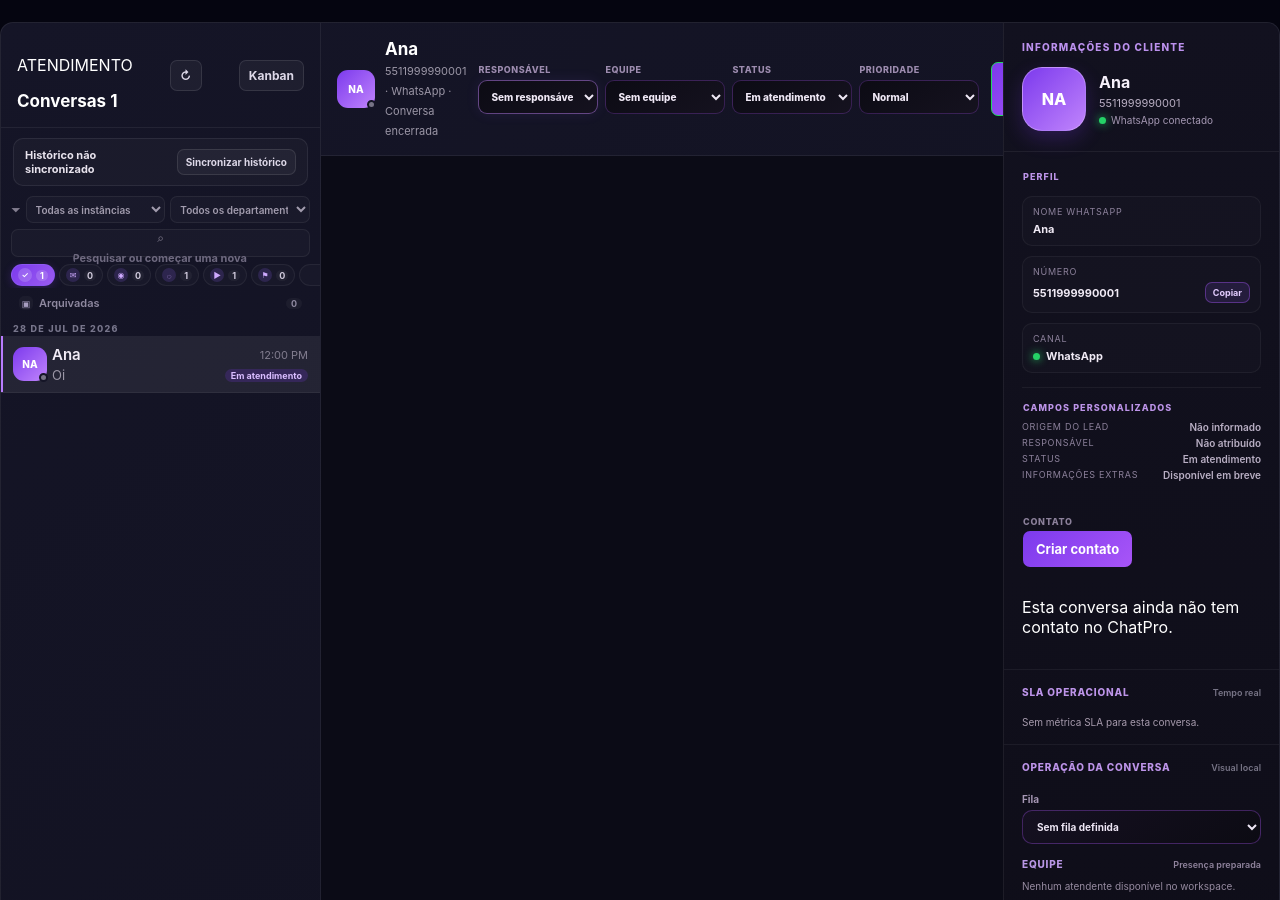
Scenario: envio de localização › dá mensagem própria para o erro de código 3
This screenshot has width=1280, height=900.
Click the button with class "conversation-item" at x=30, y=364, box [1,336,320,393]
(page scrolled)
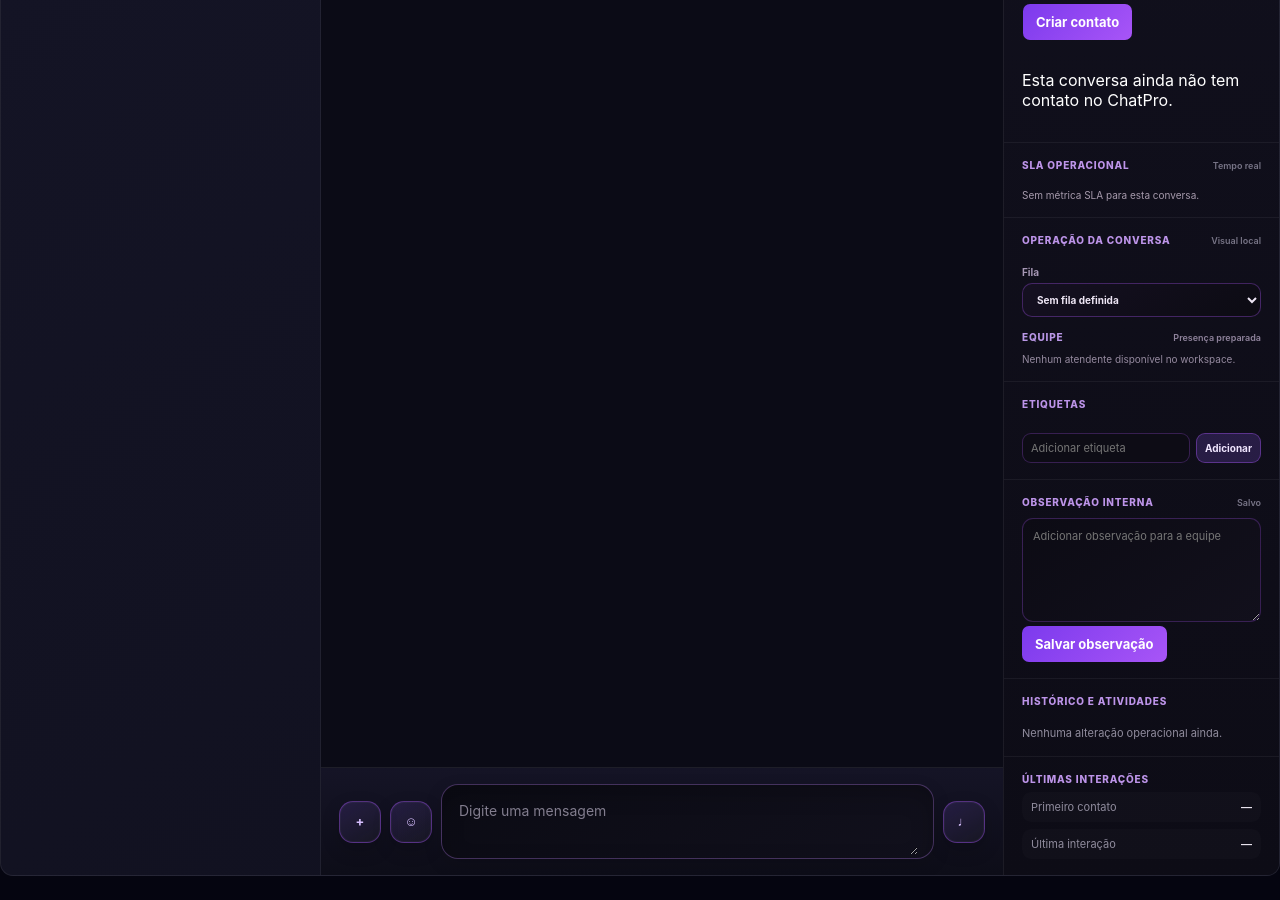
Click the button named "Adicionar anexo" at x=360, y=822, box [339,801,381,843]
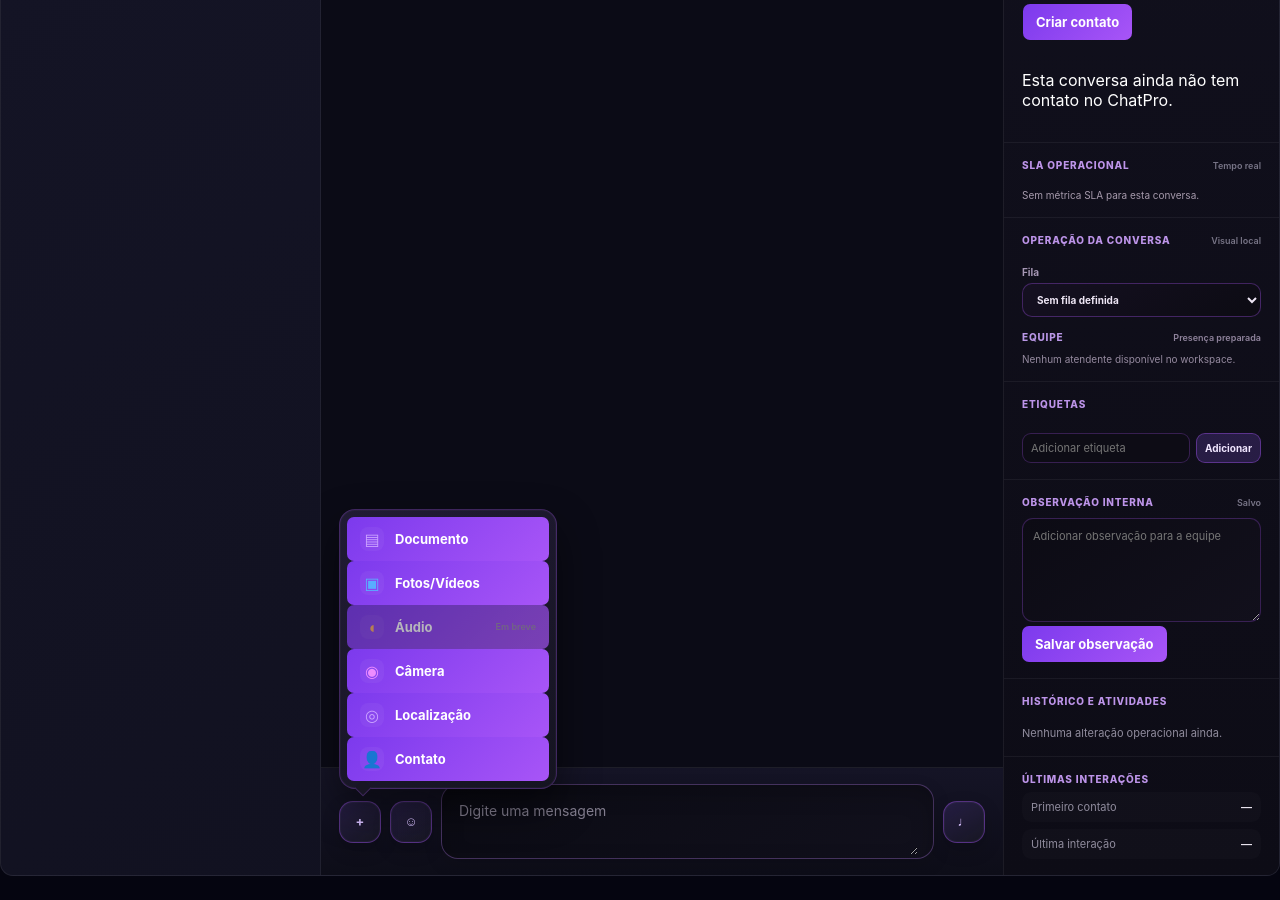
Click the text "Localização" at x=433, y=715, box [395,707,471,723]
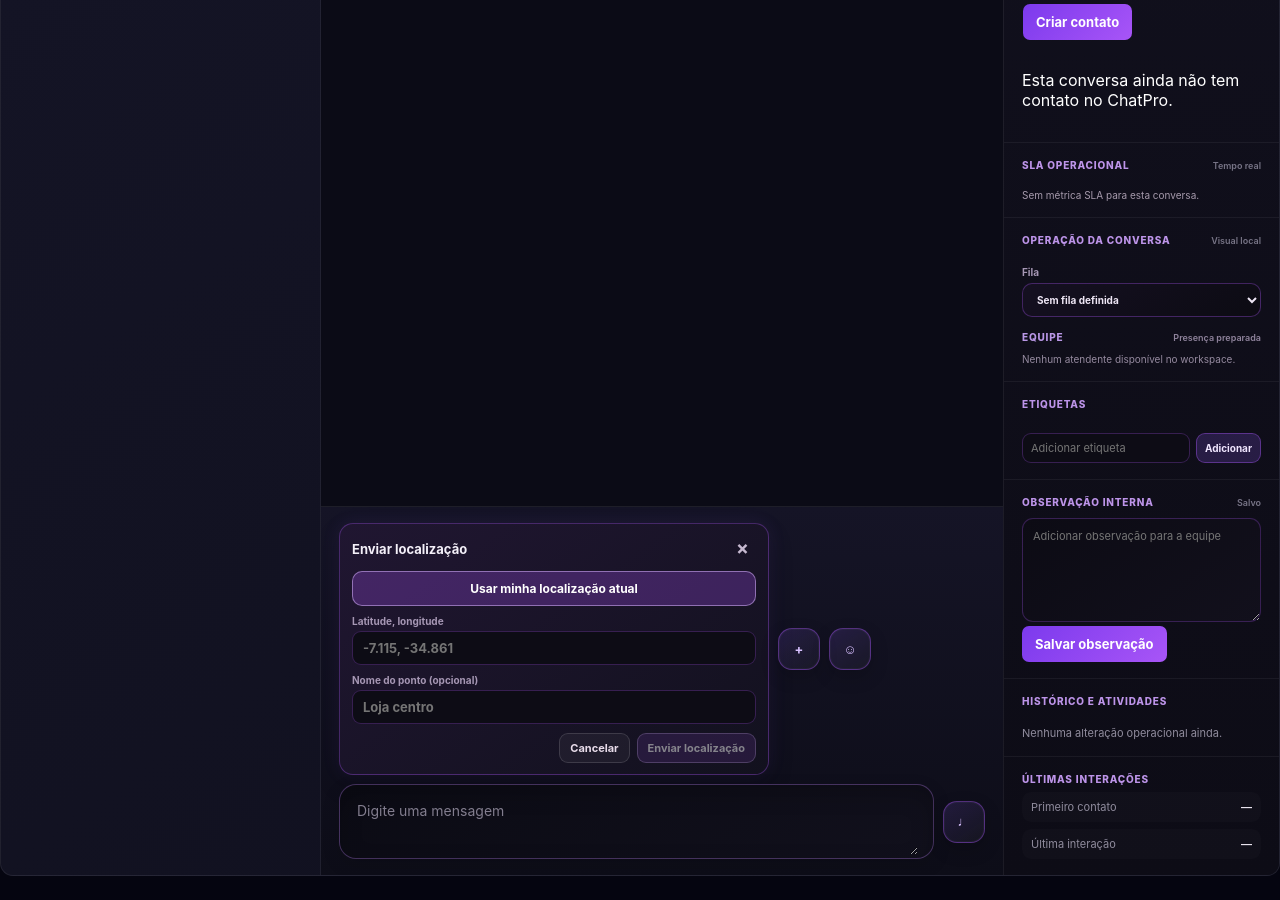
Click the button "Usar minha localização atual" at x=554, y=589, box [352,571,756,606]
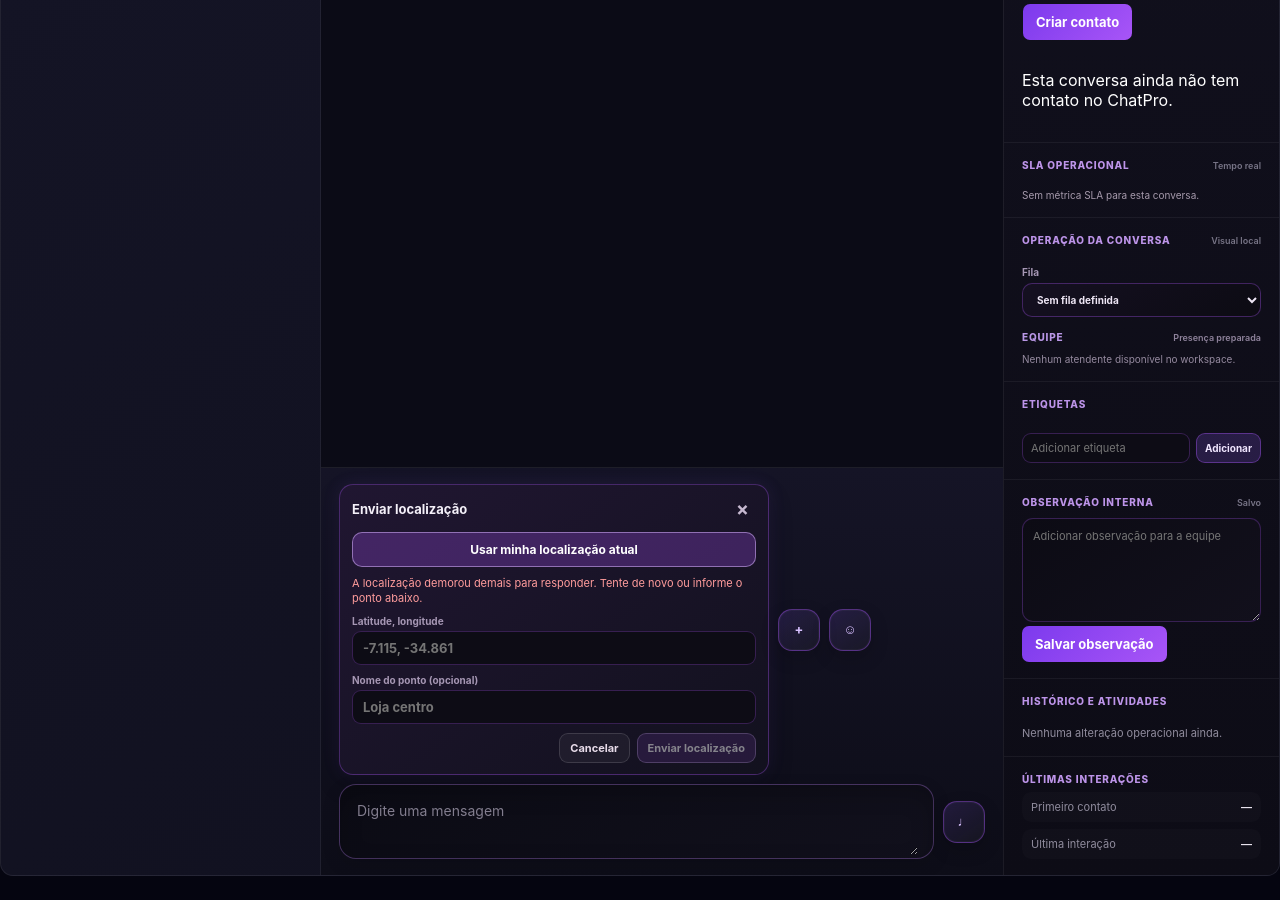
expect the message shows "demorou demais": met, box [352,576,742,605]
